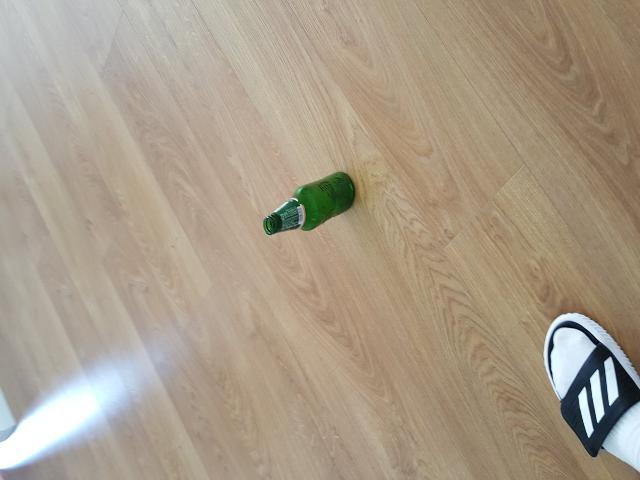beer: (265, 174, 354, 234)
